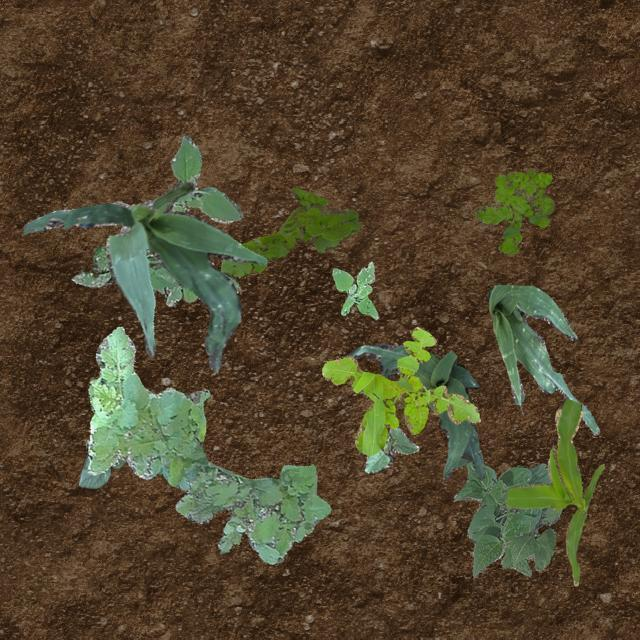crop: (19, 180, 266, 372), (344, 342, 484, 478), (504, 398, 604, 584), (486, 284, 598, 434), (454, 461, 560, 576), (362, 426, 418, 472), (78, 438, 124, 488)
weed: (88, 326, 330, 562), (70, 134, 242, 306), (320, 326, 480, 454), (220, 186, 360, 276), (474, 168, 554, 252), (330, 260, 378, 318)
